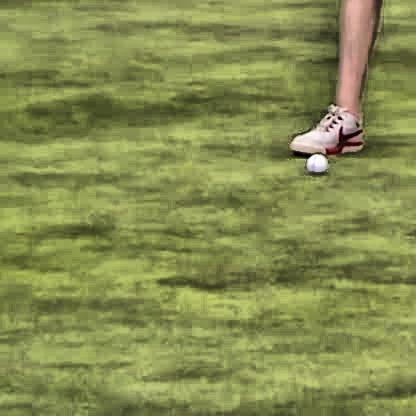golfball: (303, 149, 325, 168)
